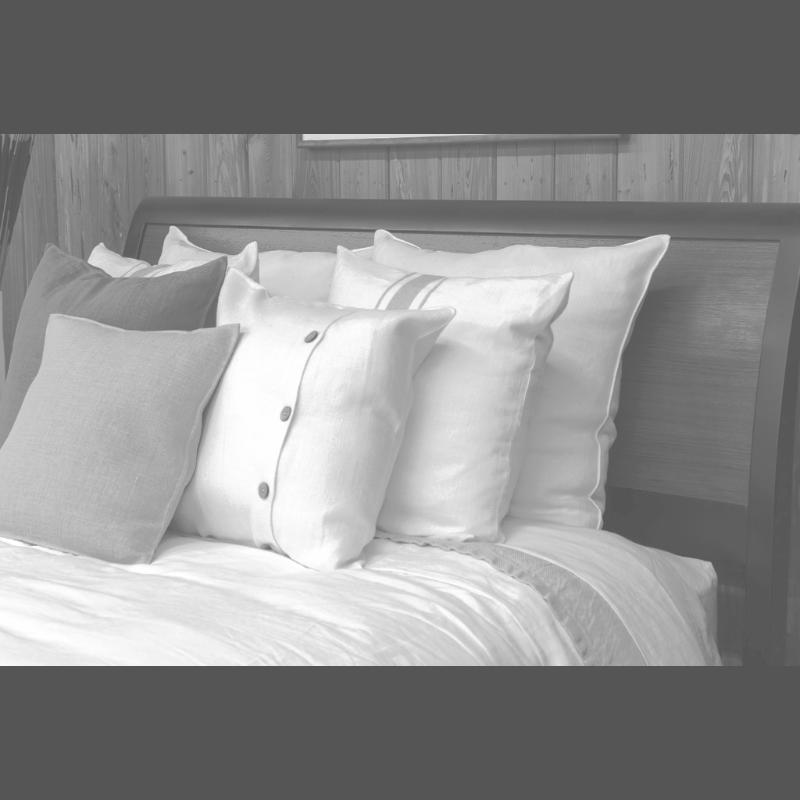pillow: (371, 234, 673, 534), (163, 272, 451, 568), (328, 251, 568, 558), (0, 316, 240, 560), (0, 244, 228, 462), (163, 224, 336, 306), (91, 240, 263, 294)
